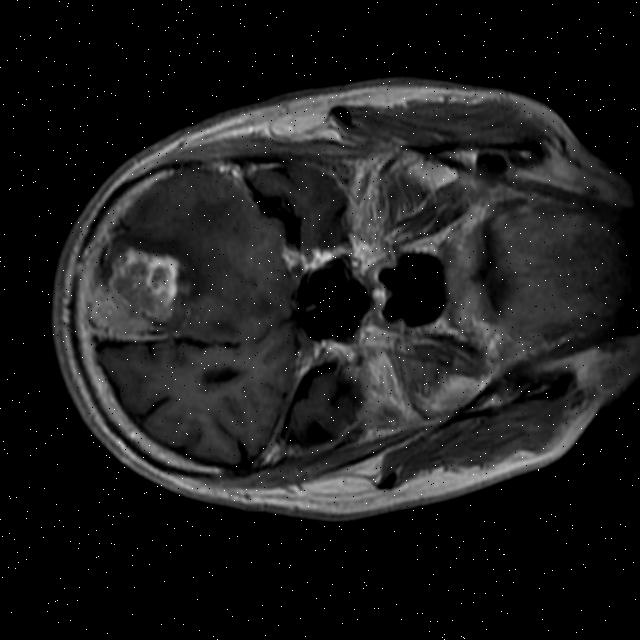Meningioma: (78, 234, 187, 338)
